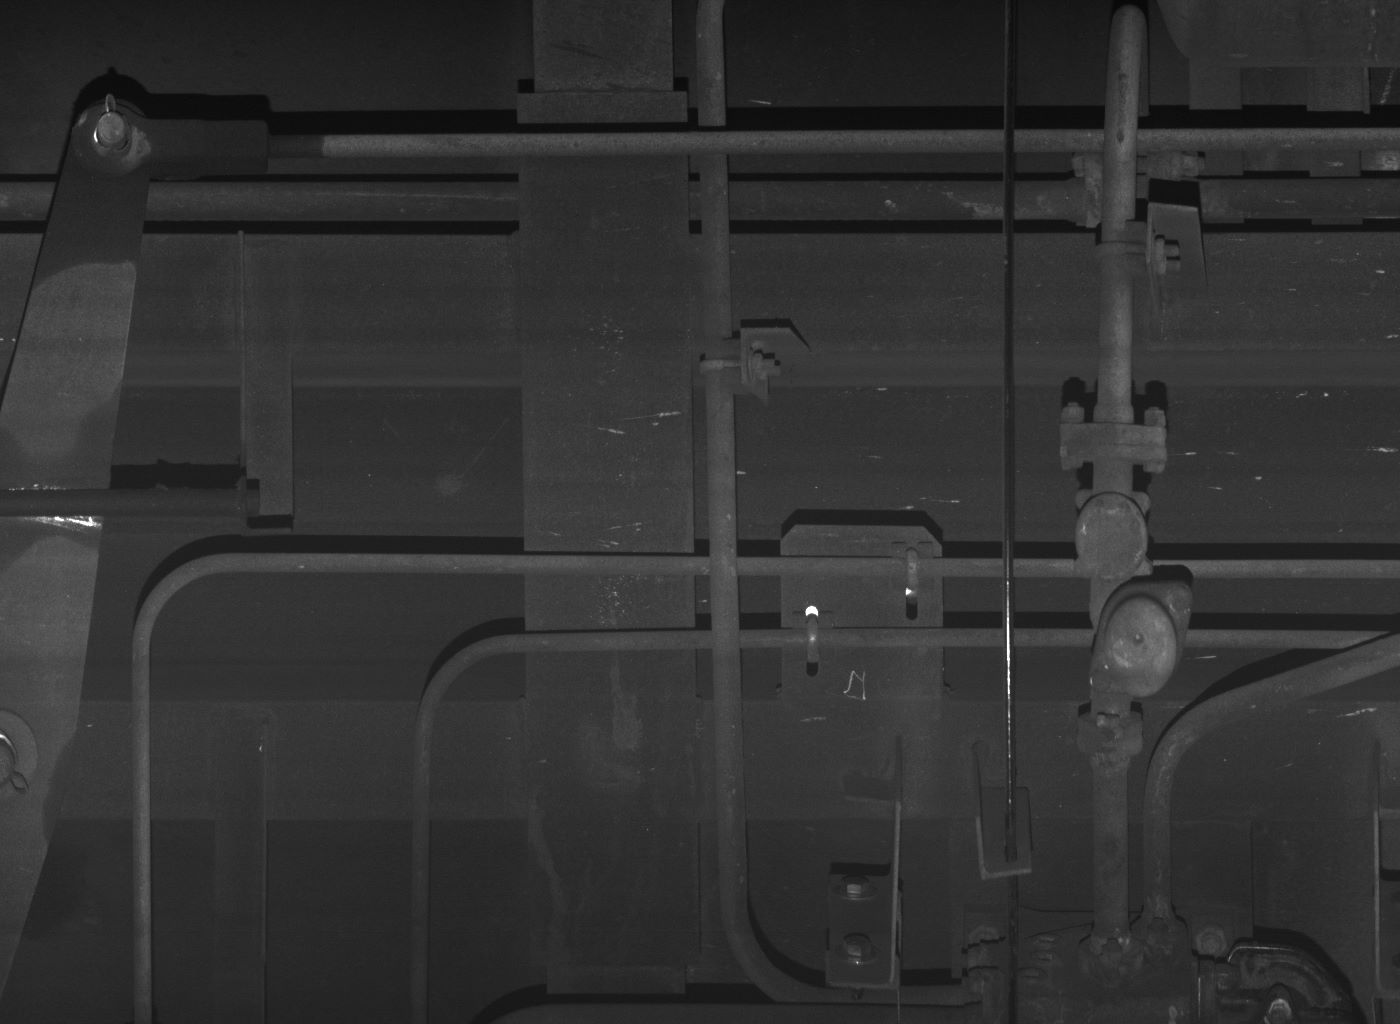normal: (1075, 487, 1154, 578)
